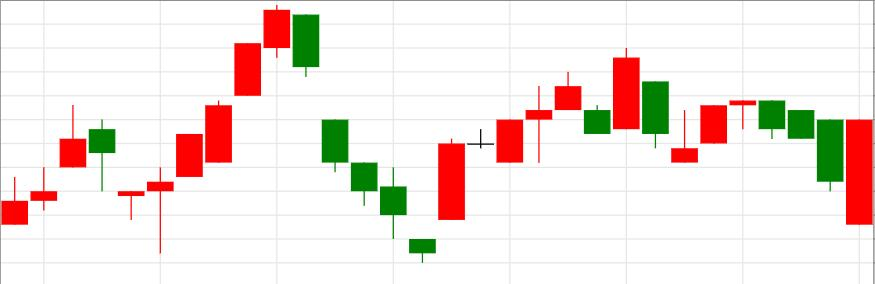three_white_soldiers_rise: (89, 5, 290, 254)
